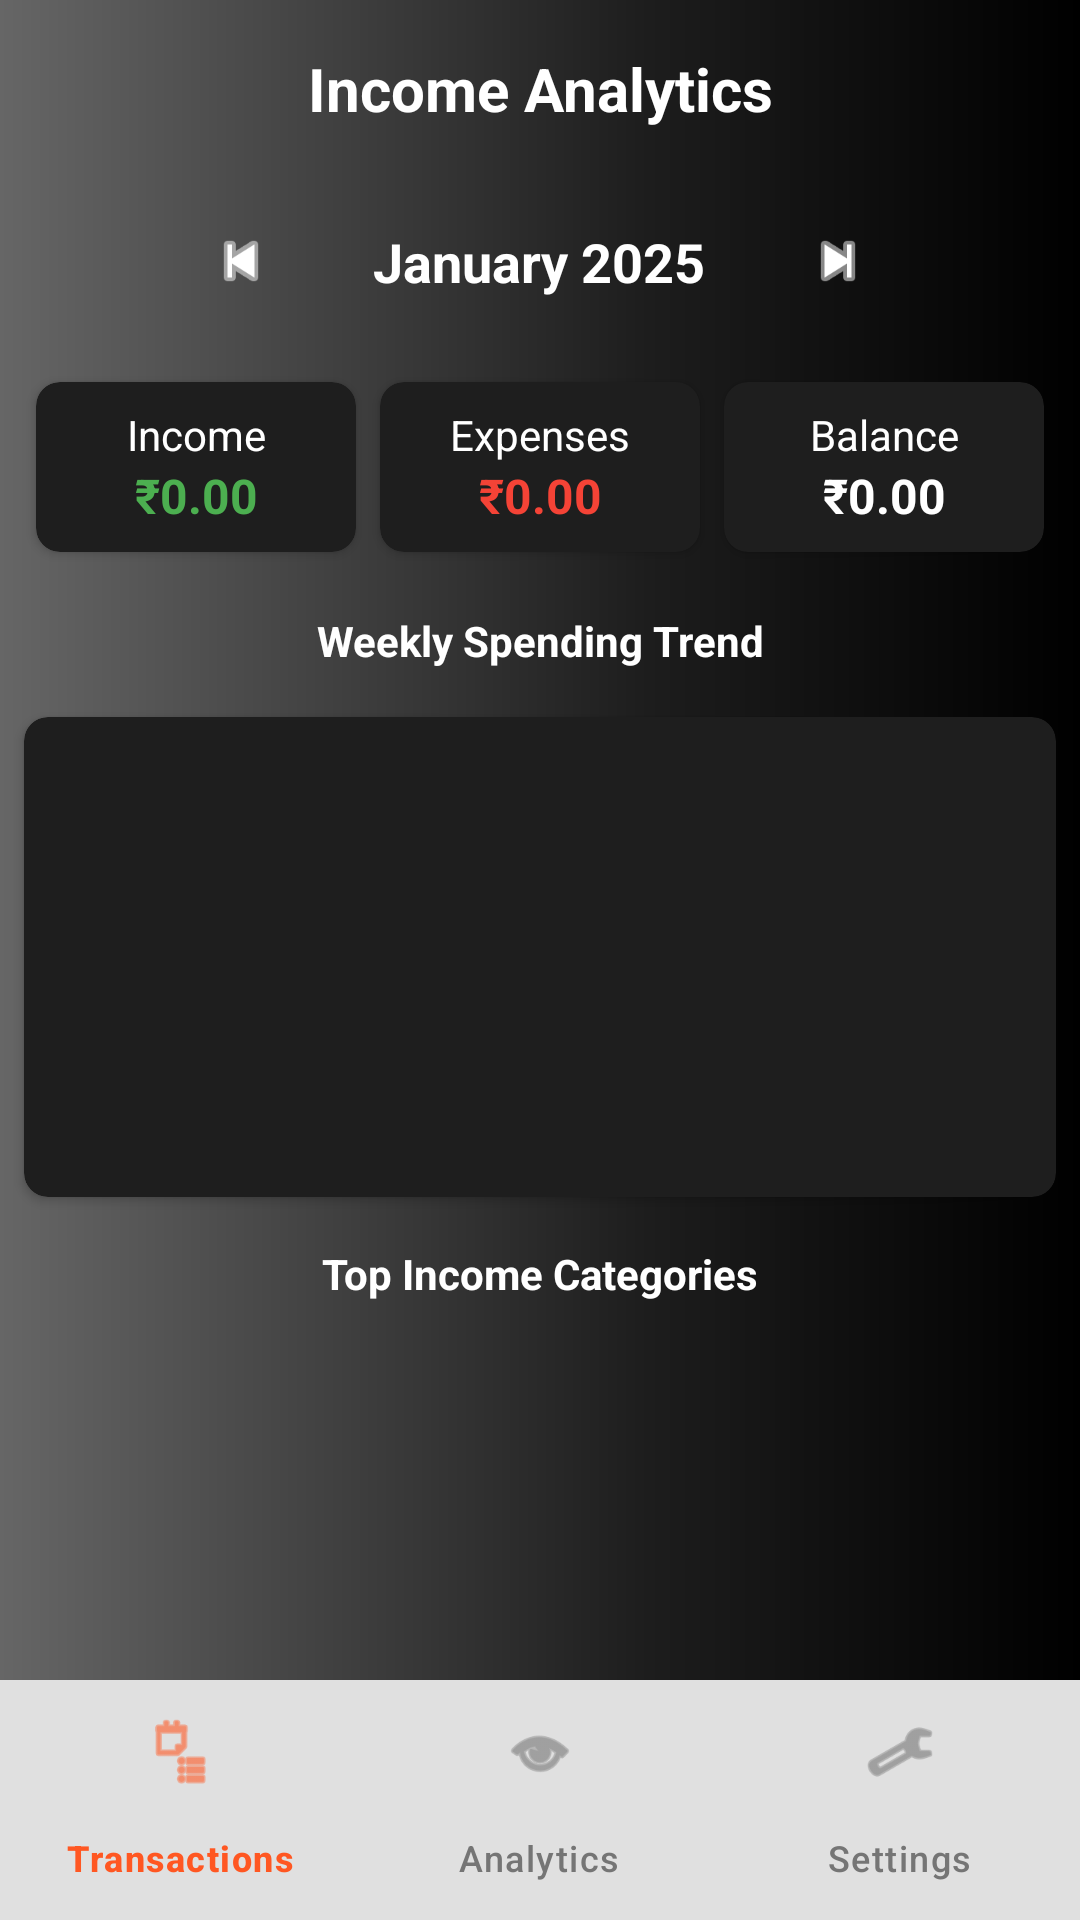

Locate icon controls on the screen. Image size 1080x1920, boxes as region(x1, y1, x2, y2).
Next Month: region(821, 241, 855, 281)
Previous Month: region(224, 241, 258, 281)
